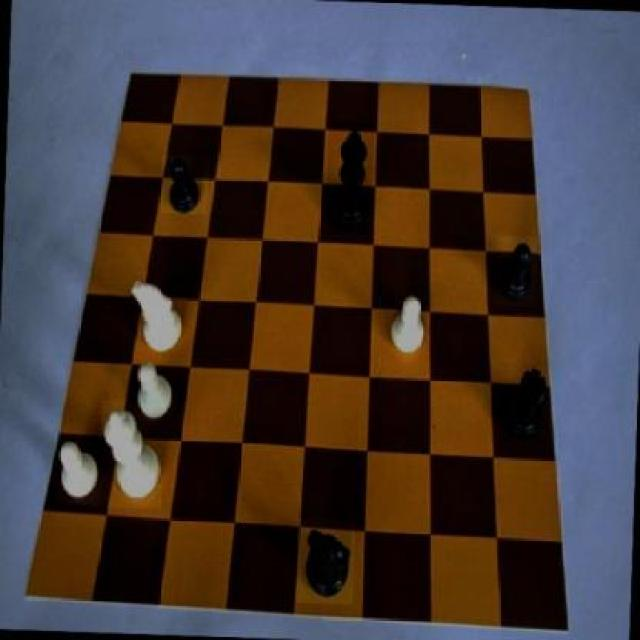black-bishop: (324, 122, 374, 236)
black-king: (296, 520, 356, 606)
black-knight: (495, 237, 538, 308), (160, 154, 209, 214)
black-queen: (498, 363, 551, 443)
white-bishop: (99, 400, 164, 509)
white-king: (128, 280, 188, 360)
white-knight: (55, 432, 108, 505), (130, 360, 184, 428), (386, 289, 434, 362)
